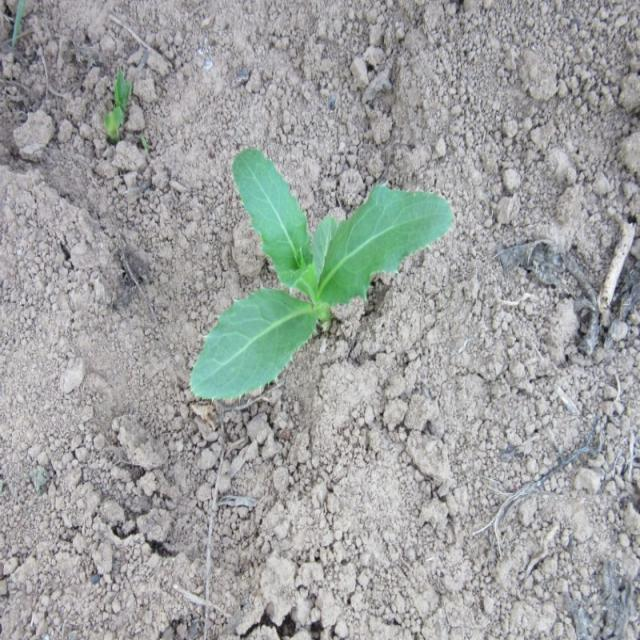cs: (188, 143, 457, 406)
